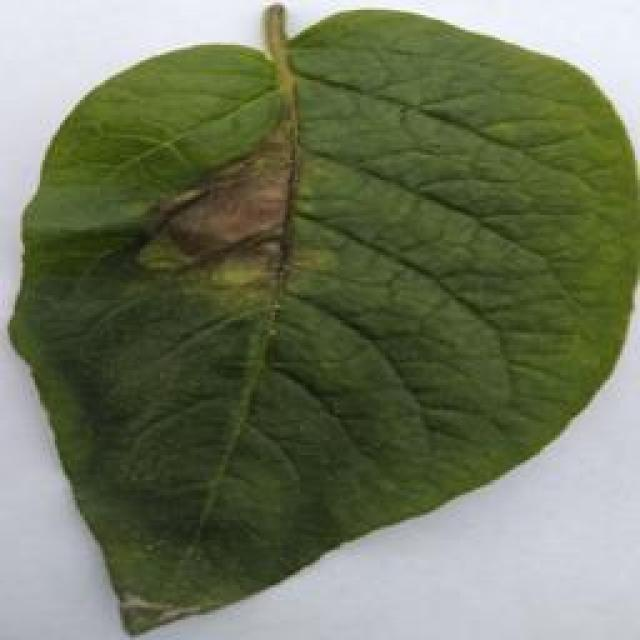Potato_Late_Blight: (10, 8, 627, 635)
